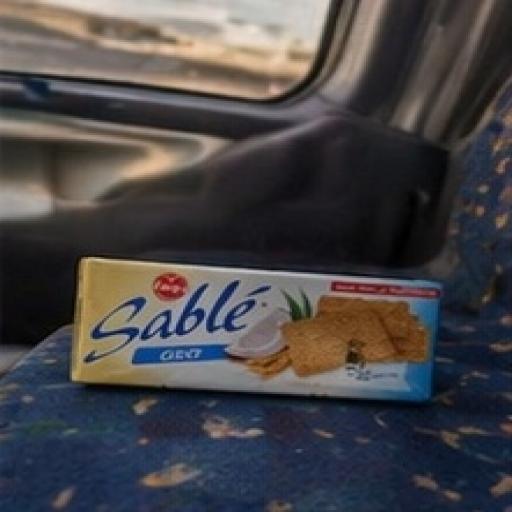sable: (45, 200, 500, 458)
